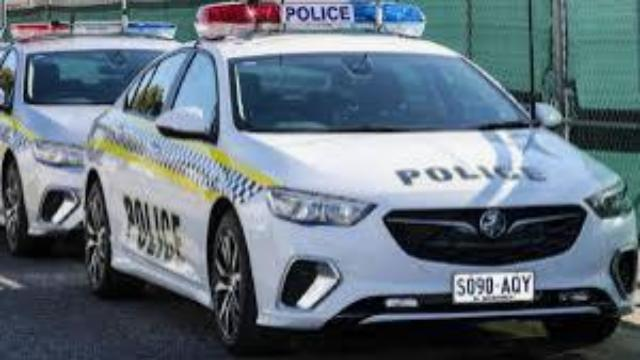police_car: (83, 0, 640, 360), (2, 19, 228, 262)
